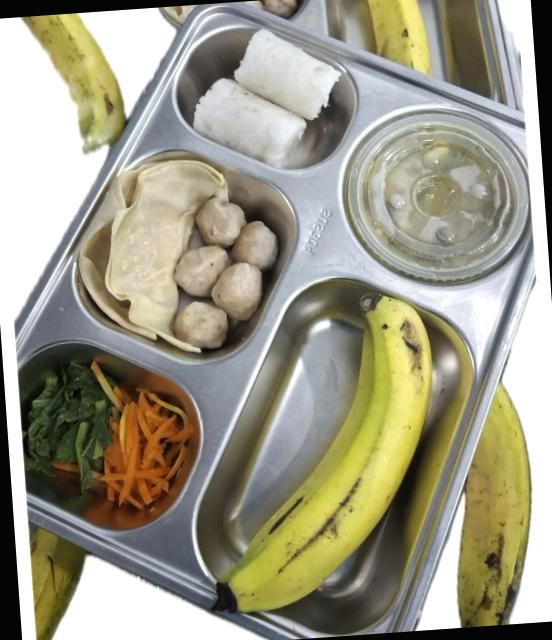buah: (214, 294, 431, 612)
nasi: (193, 30, 340, 167)
sayur: (165, 229, 271, 352)
